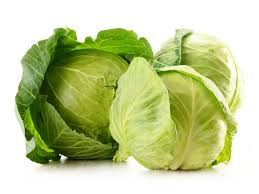cabbage: (111, 26, 236, 170), (28, 44, 134, 163)
